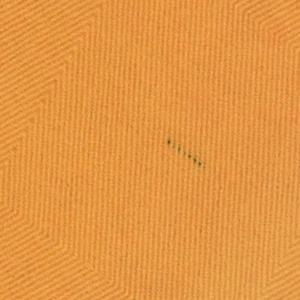stain: (165, 132, 207, 168)
